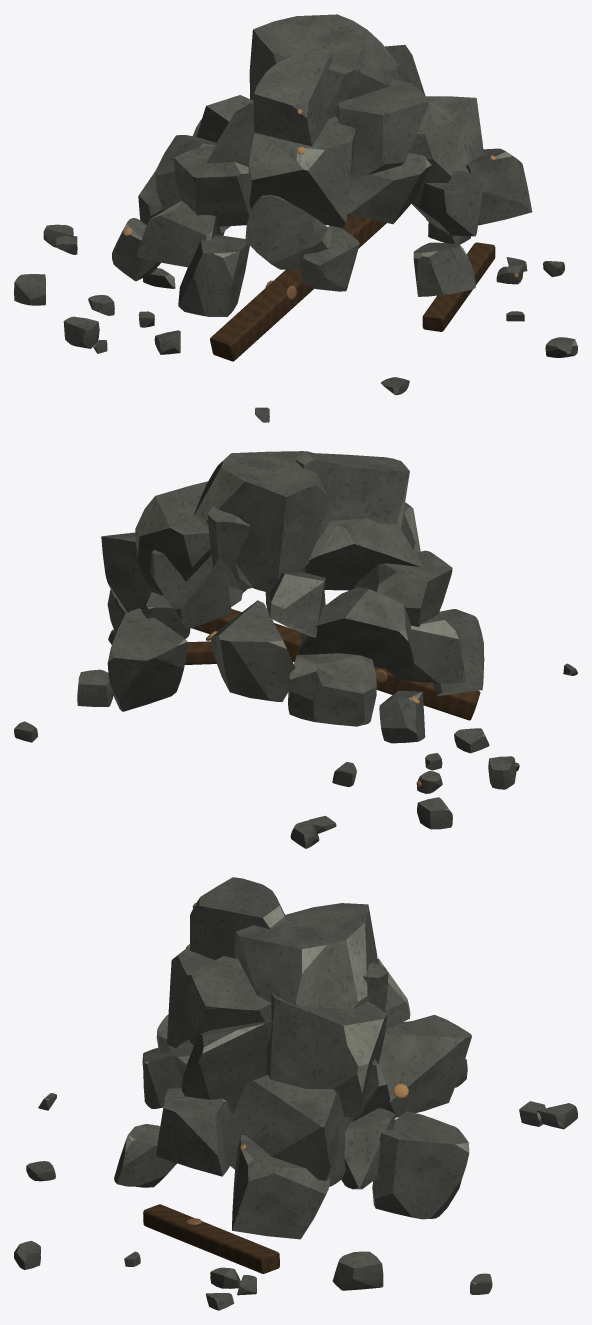
3 renders of one model, top to bottom at view 1: azimuth 30°, elevation 25°; view 2: azimuth 150°, elevation 25°; view 3: azimuth 270°, elevation 25°, orthographic. The views are drawn at different scales.
Parts seen in each view (by area): view 1: weathered mineral, heartwood, fresh chipped mineral; view 2: weathered mineral, fresh chipped mineral, heartwood; view 3: weathered mineral, fresh chipped mineral, heartwood.
Part boxes in pixels (x1,y1,x2,y2): weathered mineral: (14, 14, 577, 422); heartwood: (210, 213, 495, 361); fresh chipped mineral: (15, 96, 577, 414); weathered mineral: (14, 451, 577, 848); fresh chipped mineral: (108, 453, 577, 825); heartwood: (185, 609, 480, 720); weathered mineral: (14, 877, 577, 1310); fresh chipped mineral: (16, 905, 563, 1300); heartwood: (143, 1112, 279, 1273).
Bounding box in the file's own units: 1.76 × 0.9602 × 1.75.
Materials: 5 (3 with a texture image).
